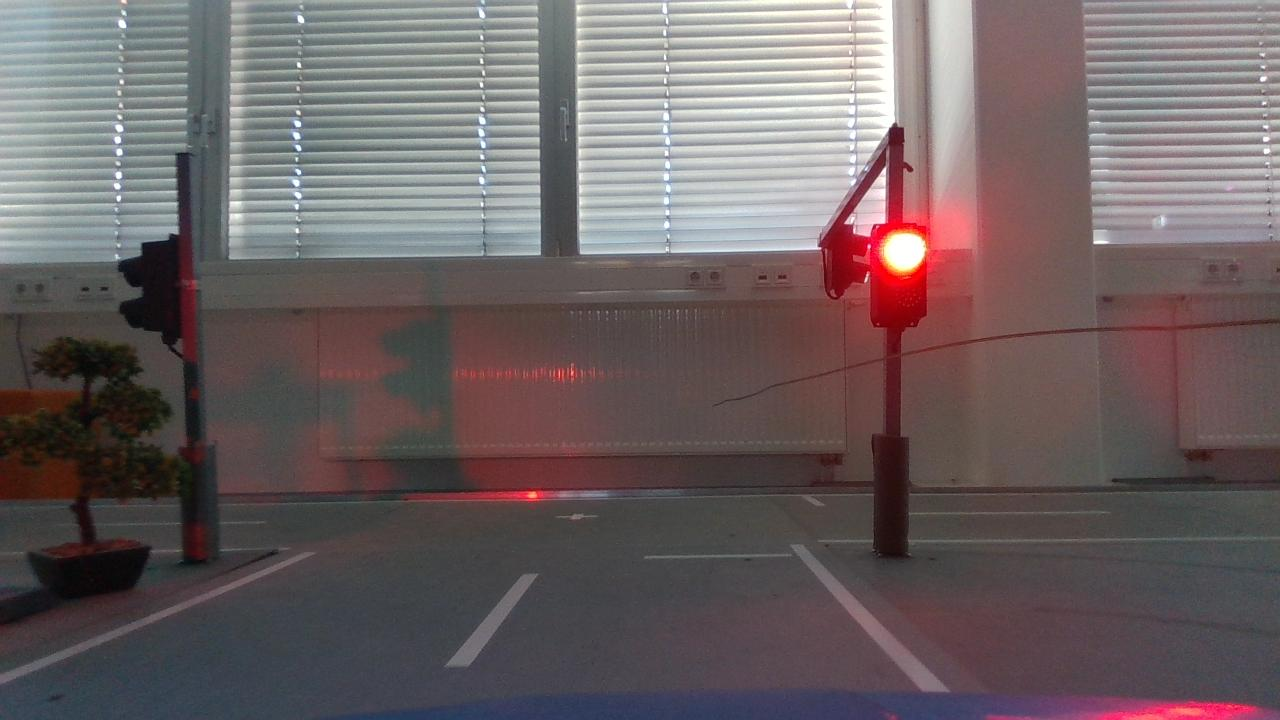traffic_light_red: (861, 213, 942, 339)
